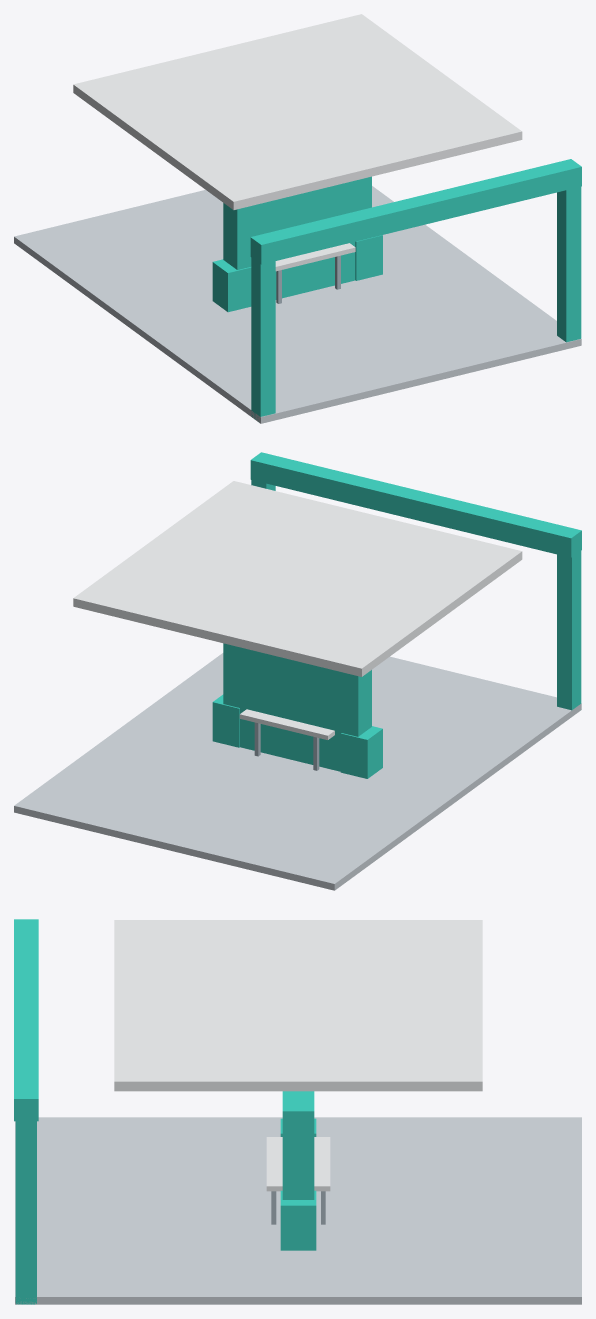
3 renders of one model, top to bottom at view 1: azimuth 30°, elevation 25°; view 2: azimuth 150°, elevation 25°; view 3: azimuth 270°, elevation 25°, orthographic. The views are drawn at different scales.
Visible parts, largest first — view 1: Exhibition Booth Concept; view 2: Exhibition Booth Concept; view 3: Exhibition Booth Concept.
Boxes of the visible parts, x1,y1,x2,y2 form: Exhibition Booth Concept: (14,14,581,423); Exhibition Booth Concept: (14,452,581,890); Exhibition Booth Concept: (14,919,581,1304).
Bounding box in the file's own units: 6 × 3.34 × 8.01.
